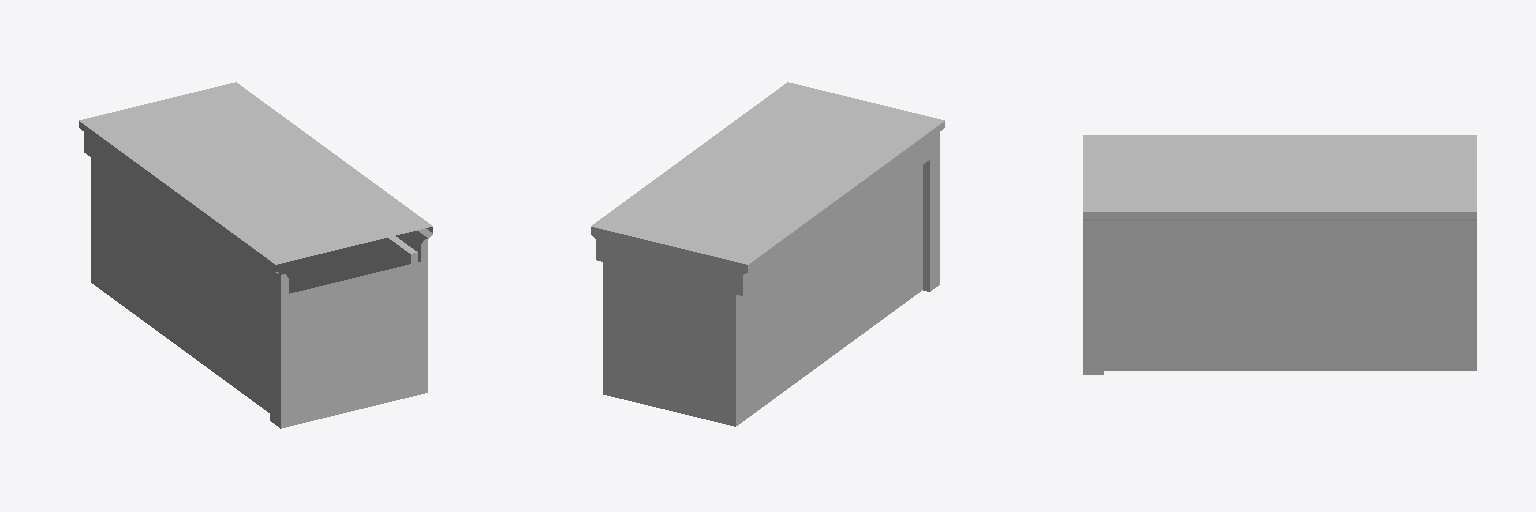
File: bruecke_BS_seite.obj
The picture shows the model from 3 angles: view 1: azimuth 30°, elevation 25°; view 2: azimuth 150°, elevation 25°; view 3: azimuth 270°, elevation 25°; orthographic projection.
Bounding box in the file's own units: 15 × 15 × 32.5.